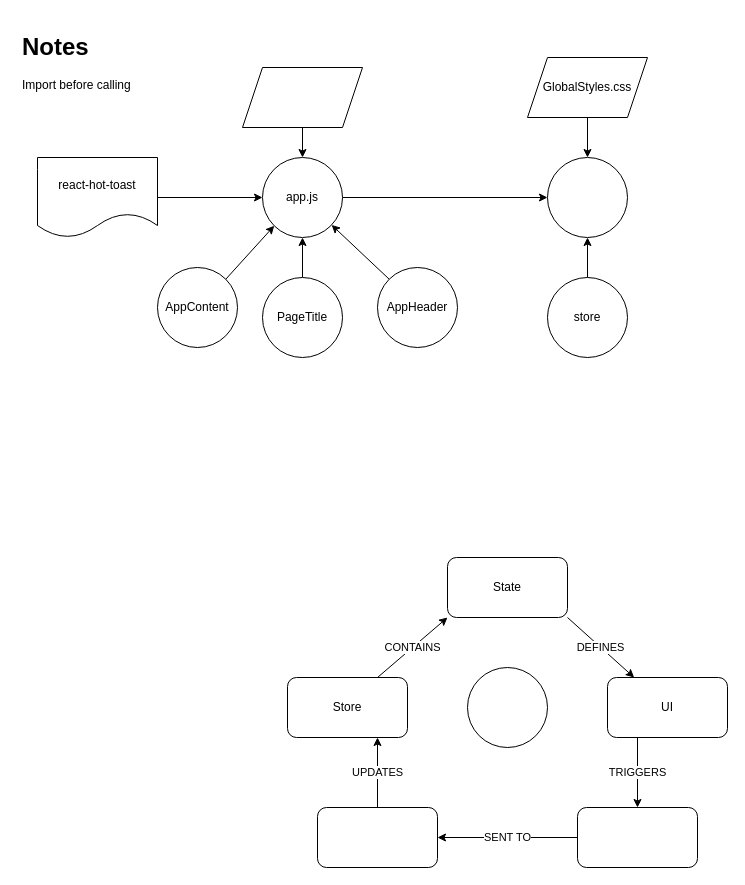
Some shapes in this 745 by 885 pixel diagram are drawn without their labels. The shapes that lost their labels are listed below. From the top down, each one's centre as x and y in pixels, then its label:
(302,97): app.module.scss
(587,197): index.js
(507,707): react-redux
(377,837): Reducer
(637,837): Action
